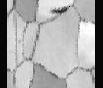good_void: (51, 4, 70, 14)
